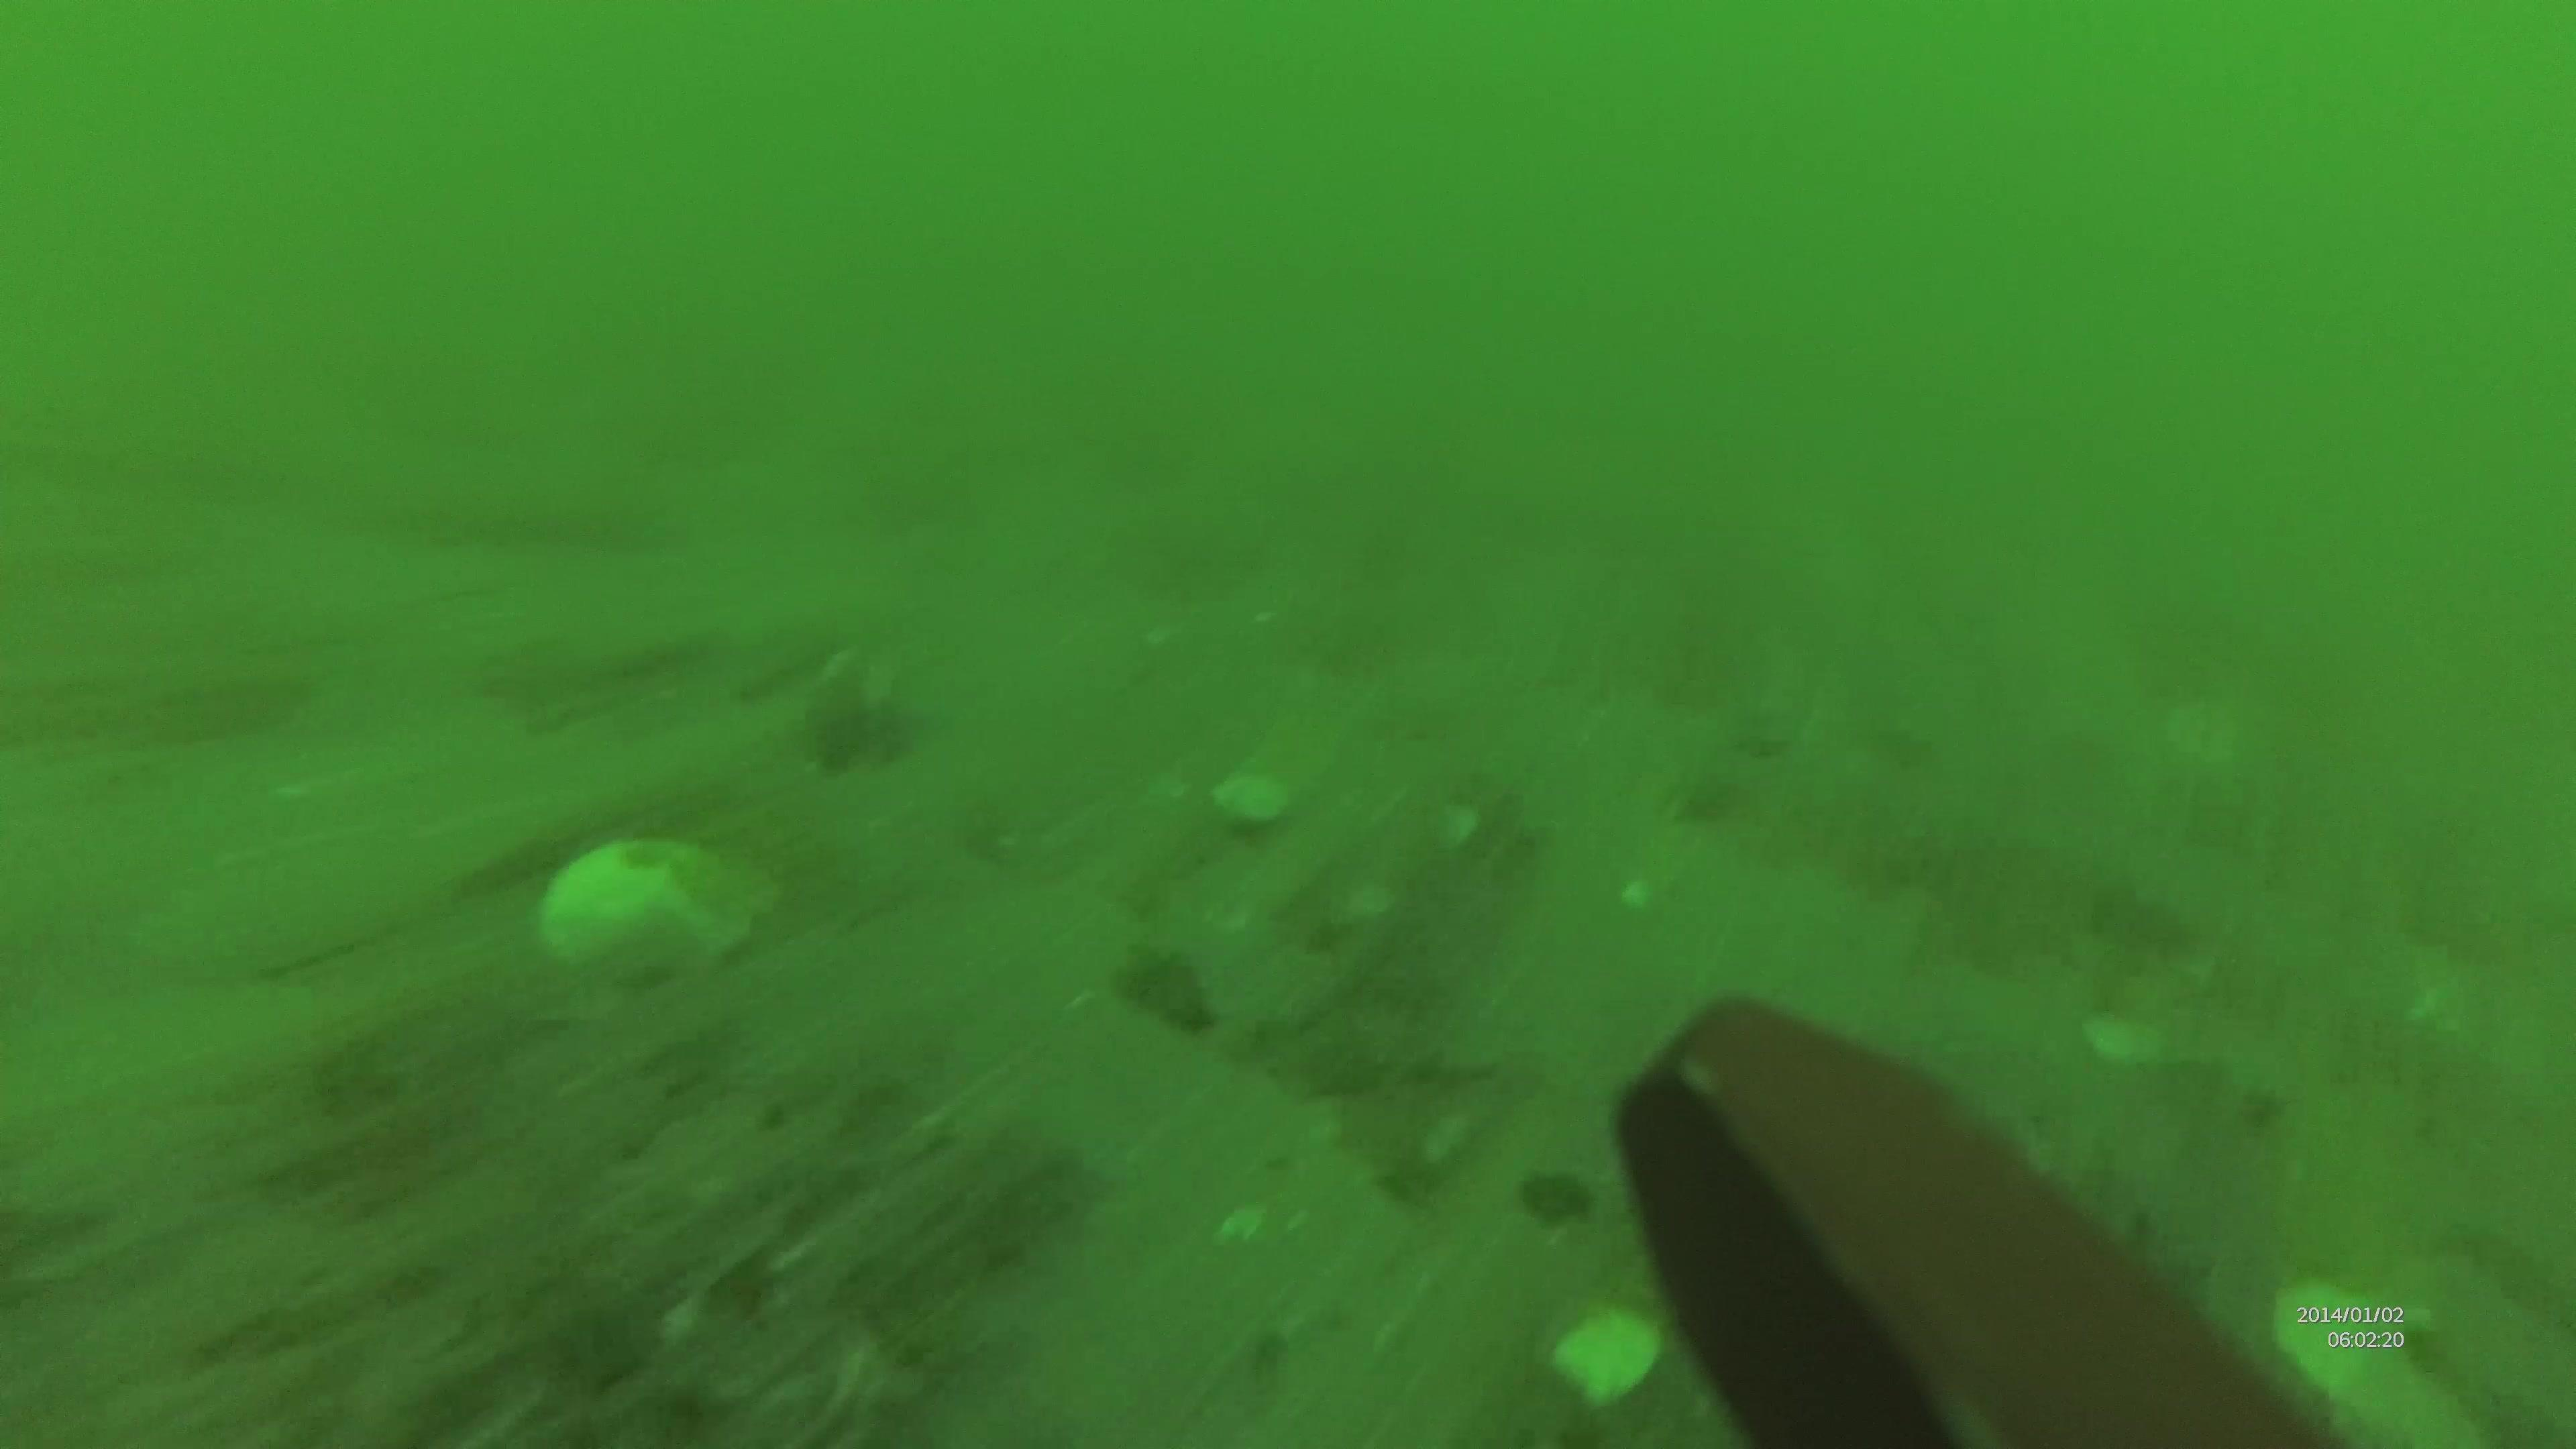echinus: (1123, 950, 1219, 1044), (805, 702, 885, 780), (1518, 1169, 1599, 1235)
scallop: (538, 840, 763, 993), (2268, 1276, 2415, 1394), (1553, 1309, 1677, 1410), (1214, 766, 1302, 833)
